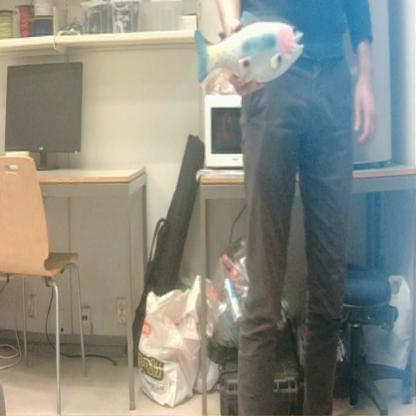rubberfish: (190, 8, 308, 94)
